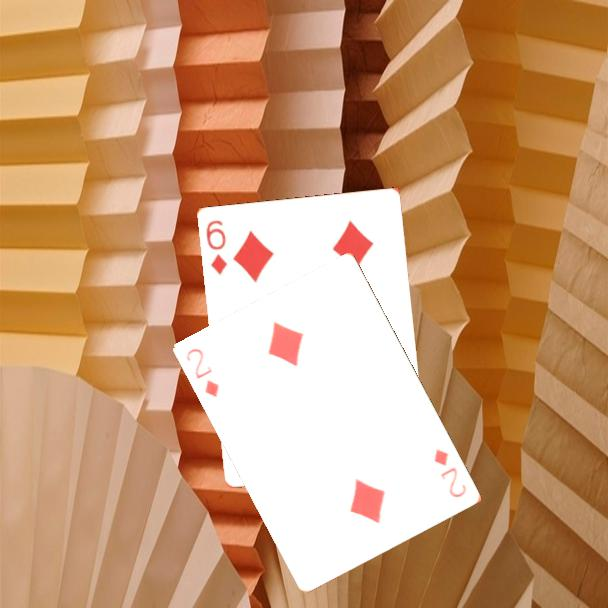d02: (431, 445, 470, 501), (183, 345, 222, 400)
d06: (203, 217, 231, 278)
